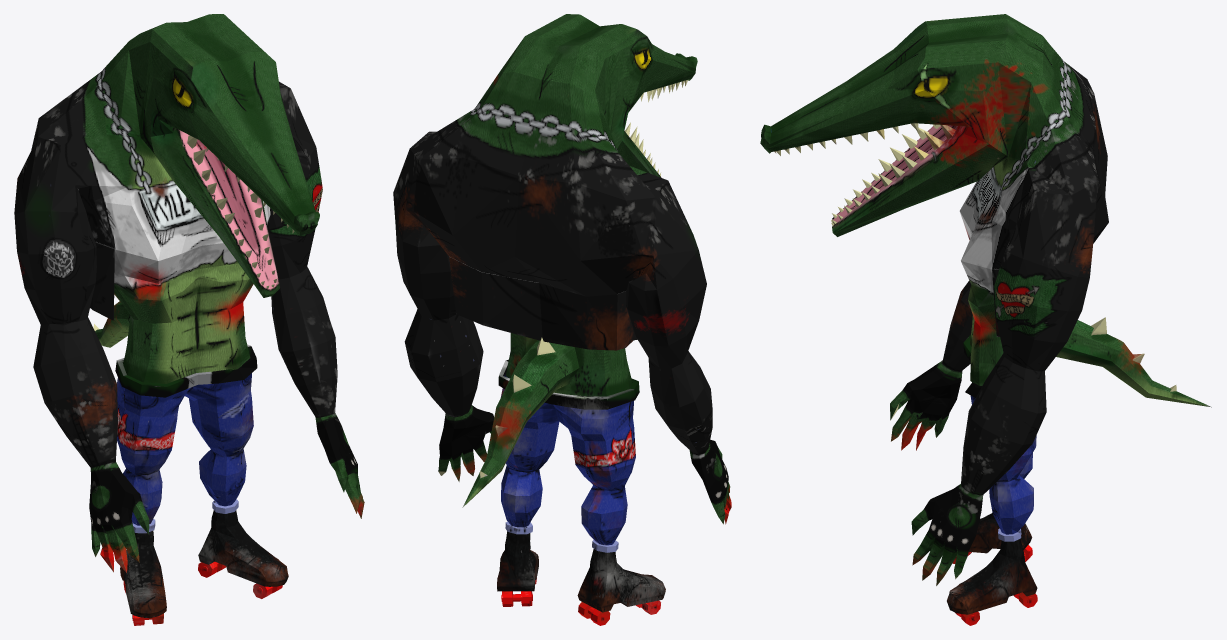
Rendered from cocodrilaBonesSelect_000054.obj.
3 views of the same model, side by side, from view 1: azimuth 30°, elevation 25°; view 2: azimuth 150°, elevation 25°; view 3: azimuth 270°, elevation 25° (orthographic). The views are drawn at different scales.
Parts seen in each view (by area): view 1: Crocodile.002_Cylinder.002; view 2: Crocodile.002_Cylinder.002; view 3: Crocodile.002_Cylinder.002.
Part boxes in pixels (x1,y1,x2,y2): Crocodile.002_Cylinder.002: (14,14,364,625); Crocodile.002_Cylinder.002: (393,14,731,625); Crocodile.002_Cylinder.002: (760,14,1211,625).
Size of the model in its own units: 3.7 by 6.72 by 4.89.
